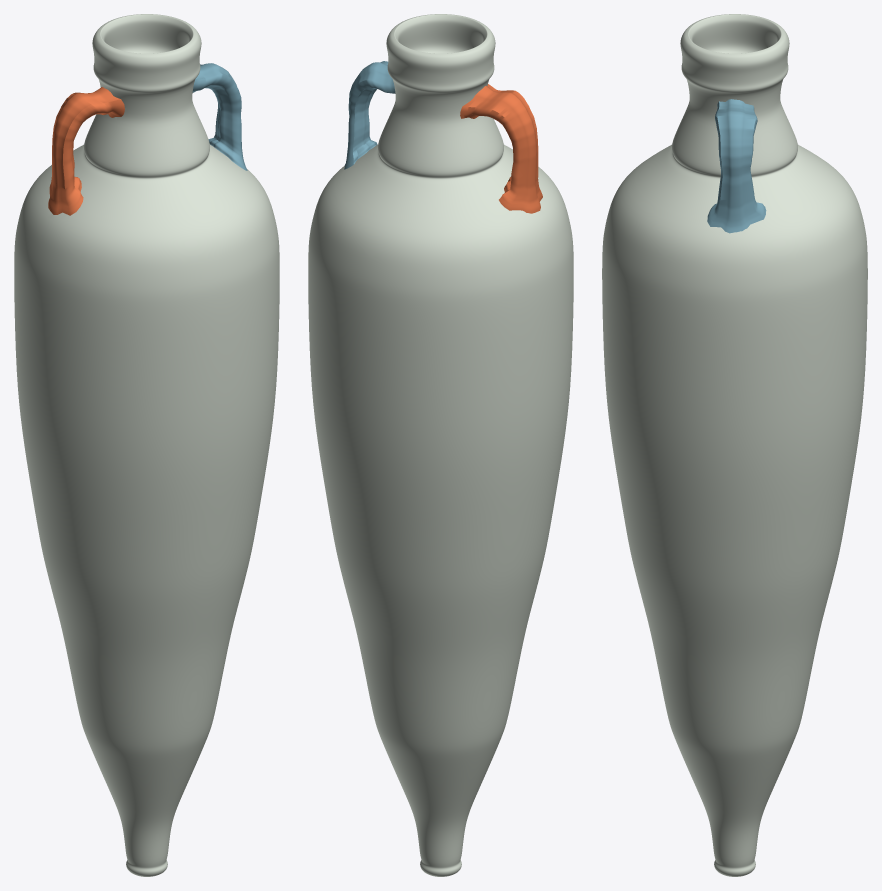
3 renders of one model, left to right at view 1: azimuth 30°, elevation 25°; view 2: azimuth 150°, elevation 25°; view 3: azimuth 270°, elevation 25°, orthographic.
Visible parts, largest first — view 1: split_parent_0, Object_3, split_parent_2; view 2: split_parent_0, Object_3, split_parent_2; view 3: split_parent_0, split_parent_2.
Part boxes in pixels (x1,y1,x2,y2): split_parent_0: (14,14,279,876); Object_3: (48,87,124,215); split_parent_2: (192,63,247,170); split_parent_0: (308,14,573,876); Object_3: (460,84,542,213); split_parent_2: (344,61,395,169); split_parent_0: (602,14,867,876); split_parent_2: (707,99,766,233).
Size of the model in its own units: 0.2871 by 1 by 0.2871.
